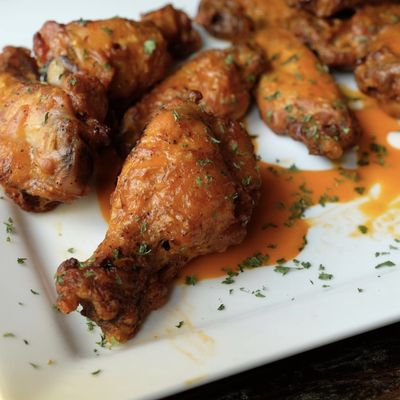salad: (249, 26, 361, 161)
